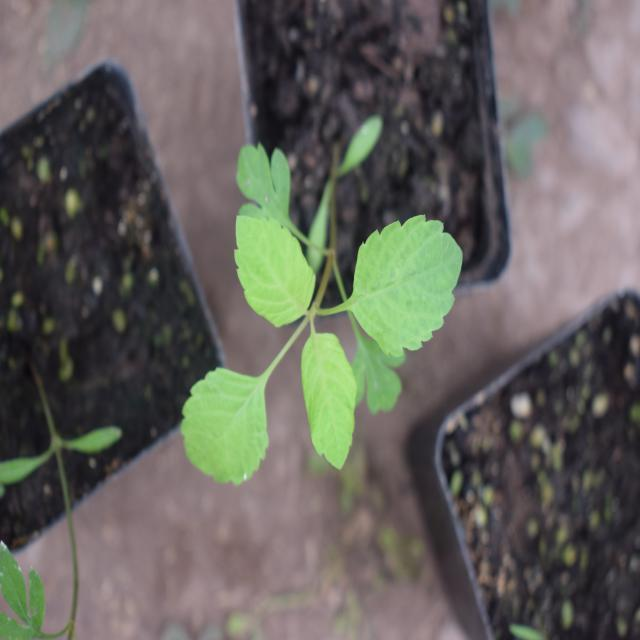Bidens pilosa: (183, 142, 461, 510)
